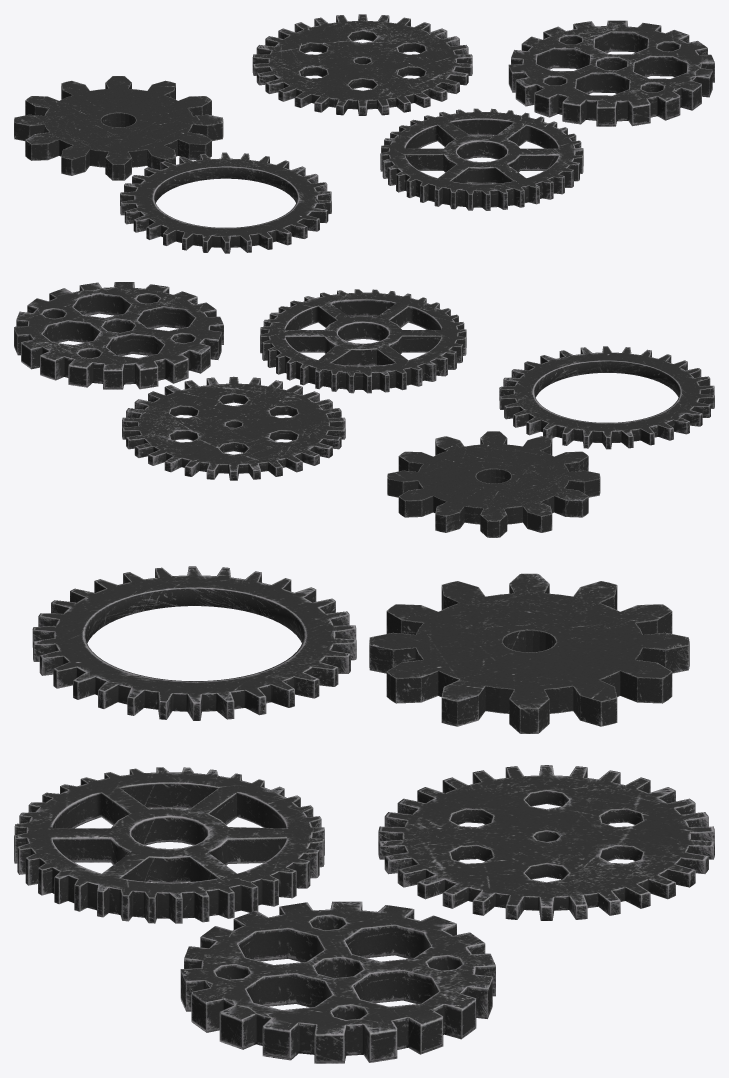
3 views of the same model, one above another, from view 1: azimuth 30°, elevation 25°; view 2: azimuth 150°, elevation 25°; view 3: azimuth 270°, elevation 25° (orthographic). The views are drawn at different scales.
Parts seen in each view (by area): view 1: gear1, gear4, gear7, gear5, gear2; view 2: gear1, gear4, gear7, gear5, gear2; view 3: gear1, gear4, gear7, gear5, gear2.
Part boxes in pixels (x1=…): gear1: x1=508, y1=20, x2=714, y2=126; gear4: x1=252, y1=14, x2=472, y2=115; gear7: x1=380, y1=108, x2=583, y2=210; gear5: x1=14, y1=76, x2=223, y2=180; gear2: x1=120, y1=152, x2=331, y2=253; gear1: x1=14, y1=282, x2=223, y2=389; gear4: x1=122, y1=376, x2=345, y2=480; gear7: x1=260, y1=289, x2=466, y2=393; gear5: x1=387, y1=431, x2=600, y2=537; gear2: x1=499, y1=346, x2=714, y2=449; gear1: x1=180, y1=901, x2=495, y2=1063; gear4: x1=378, y1=765, x2=714, y2=920; gear7: x1=14, y1=767, x2=324, y2=923; gear5: x1=369, y1=573, x2=689, y2=733; gear2: x1=32, y1=566, x2=356, y2=720.
Size of the model in its own units: 2 by 0.081 by 1.29.
5 materials, 5 textured.
